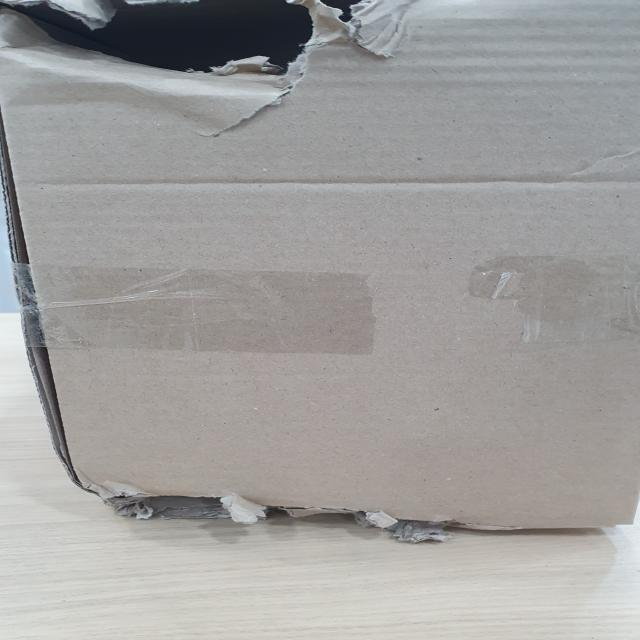hole: (0, 0, 396, 135), (95, 459, 487, 537)
